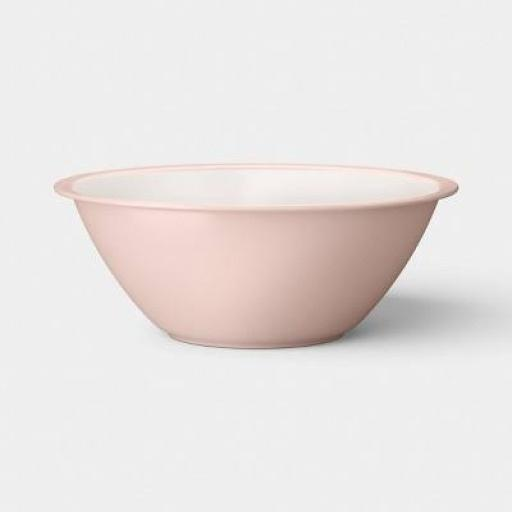Bowl: (55, 164, 457, 348)
